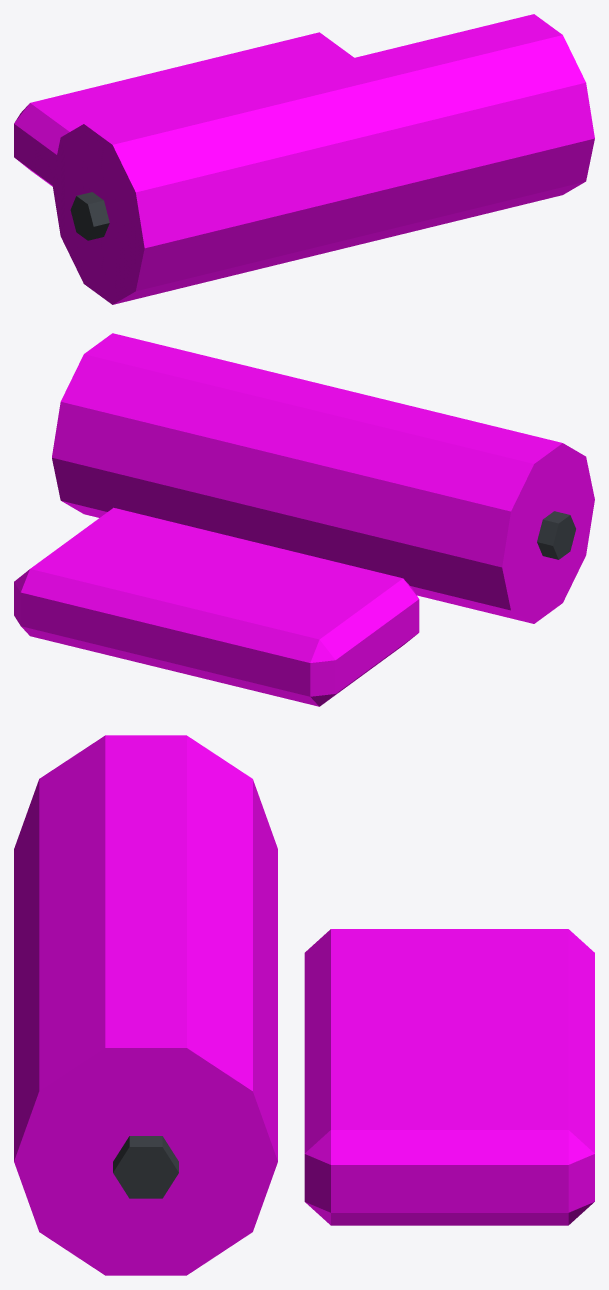
File: objet_tissu.glb
The picture shows the model from 3 angles, top to bottom: view 1: azimuth 30°, elevation 25°; view 2: azimuth 150°, elevation 25°; view 3: azimuth 270°, elevation 25°; orthographic projection. The views are drawn at different scales.
Parts seen in each view (by area): view 1: tissu_teinte.002, tissu_teinte_sombre.002; view 2: tissu_teinte.002, tissu_teinte_sombre.002; view 3: tissu_teinte.002, tissu_teinte_sombre.002.
Part boxes in pixels (x1=…): tissu_teinte.002: x1=14, y1=14, x2=594, y2=304; tissu_teinte_sombre.002: x1=70, y1=192, x2=109, y2=240; tissu_teinte.002: x1=14, y1=333, x2=594, y2=706; tissu_teinte_sombre.002: x1=537, y1=511, x2=575, y2=559; tissu_teinte.002: x1=14, y1=735, x2=594, y2=1275; tissu_teinte_sombre.002: x1=113, y1=1136, x2=178, y2=1198.
Bounding box in the file's own units: 0.3 × 0.0976 × 0.22.
